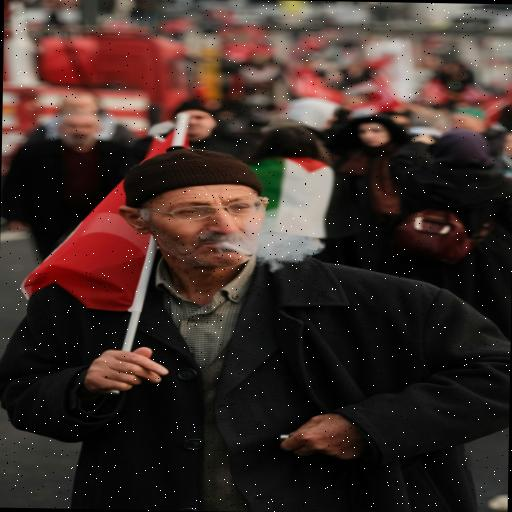terdeteksi merokok: (180, 203, 274, 278)
